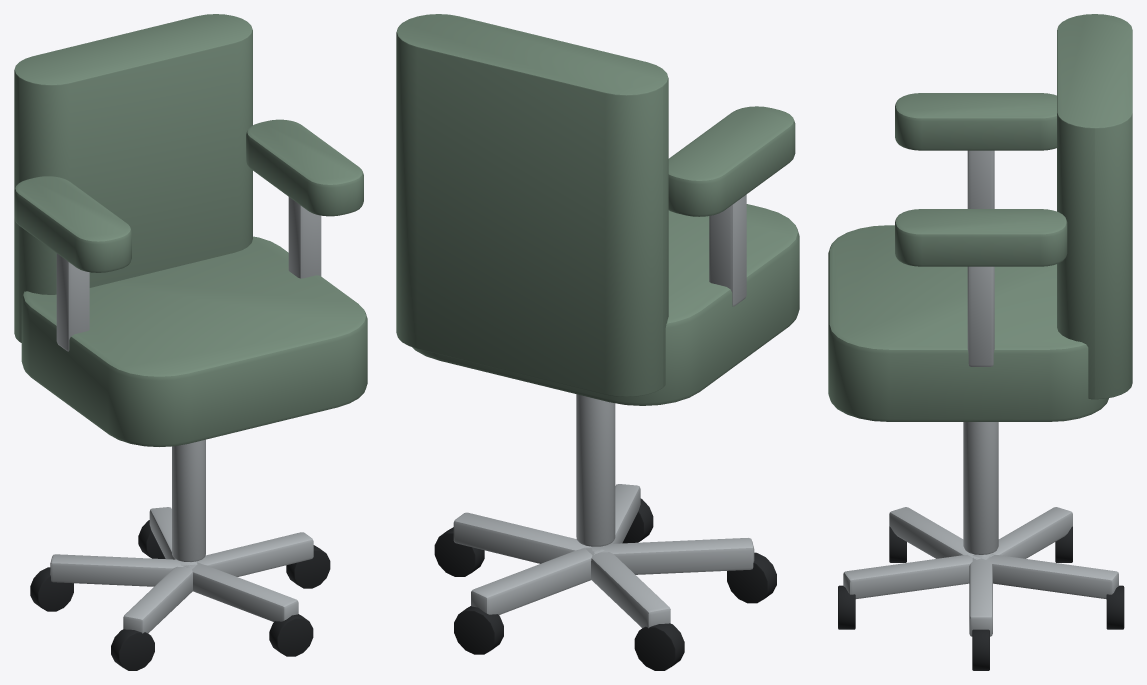
File: office_chair_public.glb
The picture shows the model from 3 angles, left to right: view 1: azimuth 30°, elevation 25°; view 2: azimuth 150°, elevation 25°; view 3: azimuth 270°, elevation 25°; orthographic projection. The views are drawn at different scales.
Parts seen in each view (by area): view 1: OfficeChair_Seat, OfficeChair_Back, OfficeChair_ArmPad_1, OfficeChair_ArmPad_-1, OfficeChair_GasLift, OfficeChair_BaseArm_3, OfficeChair_BaseArm_5, OfficeChair_BaseArm_1, OfficeChair_ArmPost_-1, OfficeChair_BaseArm_4, OfficeChair_ArmPost_1, OfficeChair_Caster_4 (+5 smaller); view 2: OfficeChair_Back, OfficeChair_Seat, OfficeChair_ArmPad_-1, OfficeChair_GasLift, OfficeChair_BaseArm_4, OfficeChair_BaseArm_2, OfficeChair_BaseArm_1, OfficeChair_ArmPost_-1, OfficeChair_BaseArm_3, OfficeChair_Caster_3, OfficeChair_Caster_2, OfficeChair_Caster_4 (+3 smaller); view 3: OfficeChair_Seat, OfficeChair_Back, OfficeChair_ArmPad_1, OfficeChair_ArmPad_-1, OfficeChair_GasLift, OfficeChair_BaseArm_2, OfficeChair_BaseArm_5, OfficeChair_ArmPost_1, OfficeChair_BaseArm_3, OfficeChair_BaseArm_4, OfficeChair_BaseArm_1, OfficeChair_ArmPost_-1 (+5 smaller).
Part boxes in pixels (box(x1,y1,x2,y2)): OfficeChair_Seat: box(21, 236, 367, 446); OfficeChair_Back: box(14, 14, 252, 342); OfficeChair_ArmPad_1: box(246, 119, 363, 216); OfficeChair_ArmPad_-1: box(14, 176, 131, 272); OfficeChair_GasLift: box(172, 439, 205, 561); OfficeChair_BaseArm_3: box(50, 554, 190, 586); OfficeChair_BaseArm_5: box(183, 562, 298, 621); OfficeChair_BaseArm_1: box(196, 532, 313, 576); OfficeChair_ArmPost_-1: box(56, 253, 89, 351); OfficeChair_BaseArm_4: box(123, 564, 196, 633); OfficeChair_ArmPost_1: box(288, 197, 321, 278); OfficeChair_Caster_4: box(111, 629, 154, 670); OfficeChair_Back: box(396, 14, 668, 396); OfficeChair_Seat: box(412, 204, 799, 405); OfficeChair_ArmPad_-1: box(668, 106, 795, 216); OfficeChair_GasLift: box(576, 394, 615, 546); OfficeChair_BaseArm_4: box(591, 538, 754, 574); OfficeChair_BaseArm_2: box(471, 547, 604, 614); OfficeChair_BaseArm_1: box(453, 512, 591, 563); OfficeChair_ArmPost_-1: box(709, 194, 746, 306); OfficeChair_BaseArm_3: box(586, 548, 670, 628); OfficeChair_Caster_3: box(634, 623, 684, 670); OfficeChair_Caster_2: box(454, 606, 503, 654); OfficeChair_Caster_4: box(727, 552, 776, 603); OfficeChair_Seat: box(828, 225, 1108, 421); OfficeChair_Back: box(1057, 14, 1132, 399); OfficeChair_ArmPad_1: box(895, 209, 1067, 266); OfficeChair_ArmPad_-1: box(895, 93, 1056, 150); OfficeChair_GasLift: box(963, 422, 998, 554); OfficeChair_BaseArm_2: box(977, 554, 1118, 599); OfficeChair_BaseArm_5: box(843, 554, 972, 598); OfficeChair_ArmPost_1: box(967, 266, 994, 366); OfficeChair_BaseArm_3: box(972, 507, 1072, 559); OfficeChair_BaseArm_4: box(889, 507, 989, 559); OfficeChair_BaseArm_1: box(969, 557, 992, 636); OfficeChair_ArmPost_-1: box(967, 150, 994, 208).
Size of what is drawn, in the model's own units: 0.4988 by 0.8788 by 0.4505.
